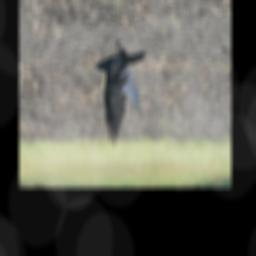Crow: (91, 39, 147, 149)
